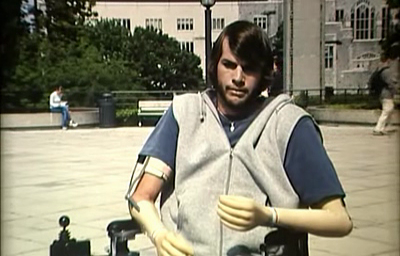face: (217, 53, 260, 108)
ms: (1, 1, 400, 256)
person: (125, 20, 353, 255)
